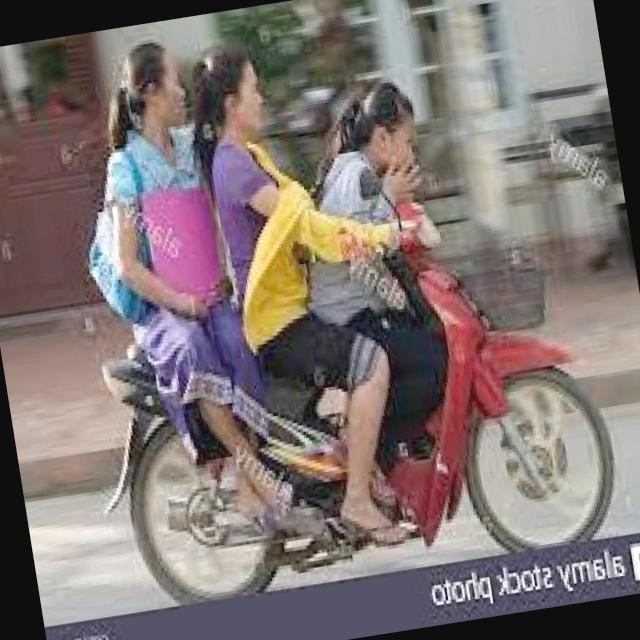motorcycle: (57, 162, 628, 616)
person: (54, 27, 294, 464), (176, 23, 394, 454), (284, 61, 502, 470)
rider_region: (40, 0, 627, 611)
